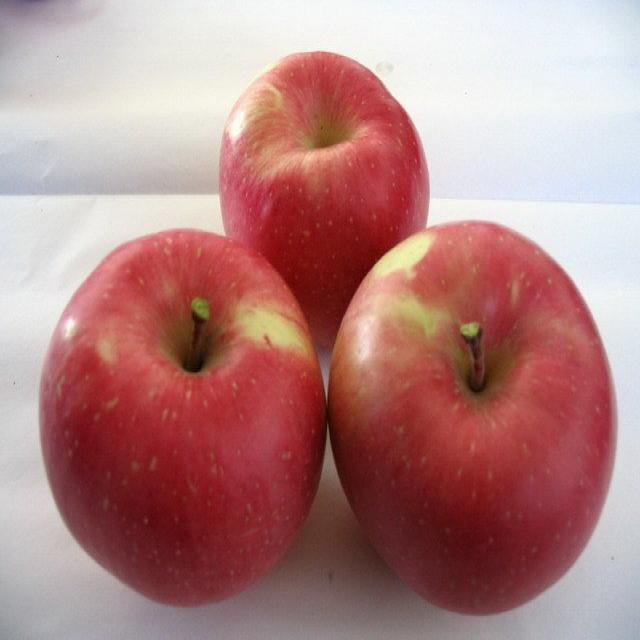Apple: (327, 220, 619, 616), (42, 228, 334, 616), (222, 46, 435, 356)
